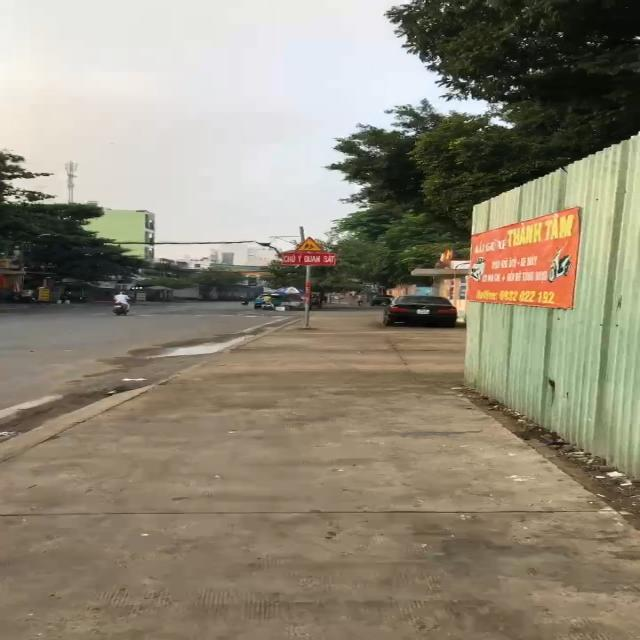Bien bao tre em: (295, 236, 322, 252)
